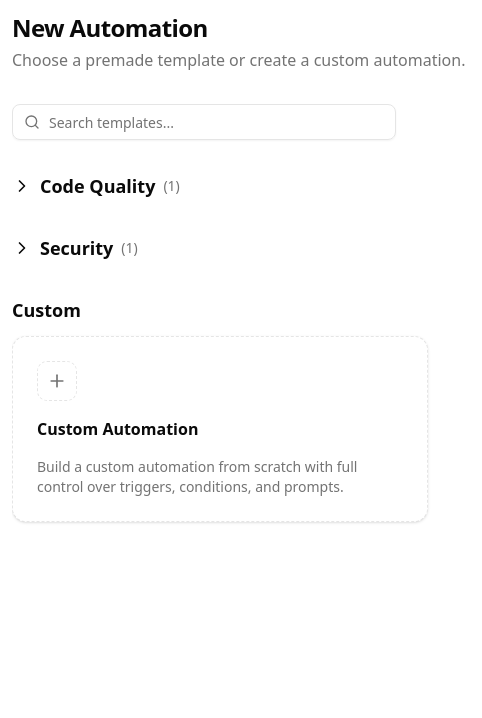
Test: AutomationNewPage › should expand category and show template cards when clicked
Click the text "Code Quality": {"x": 98, "y": 186} [40,172,155,200]
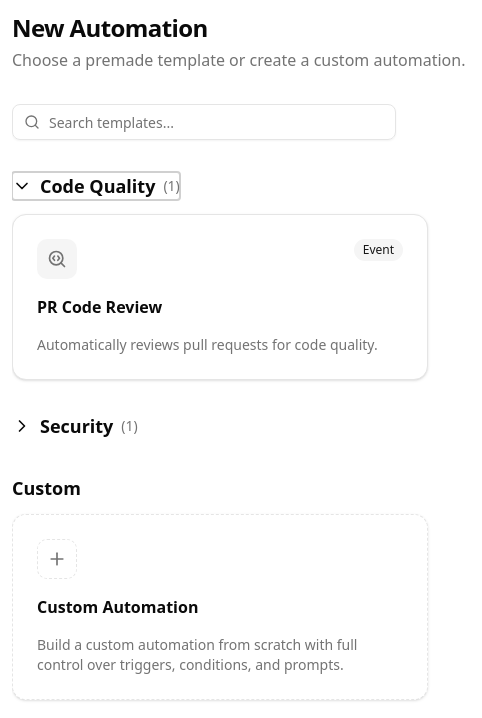
Expected: the text "PR Code Review" is shown, [37,296,162,318]
